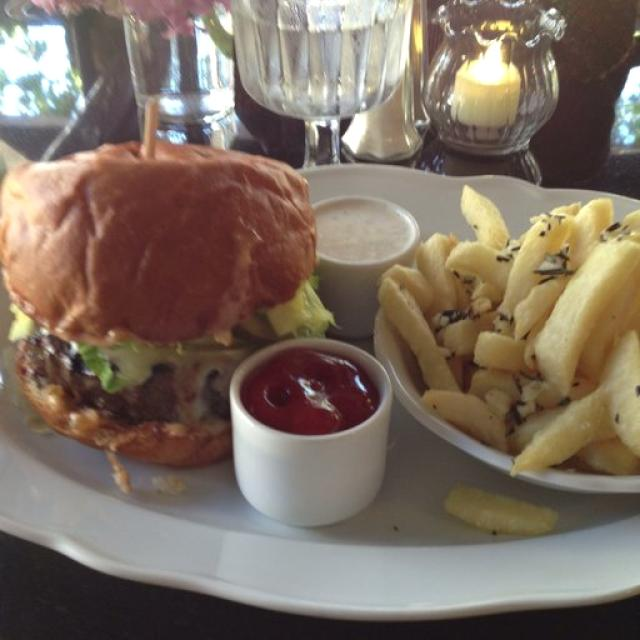burger: (0, 134, 293, 438)
